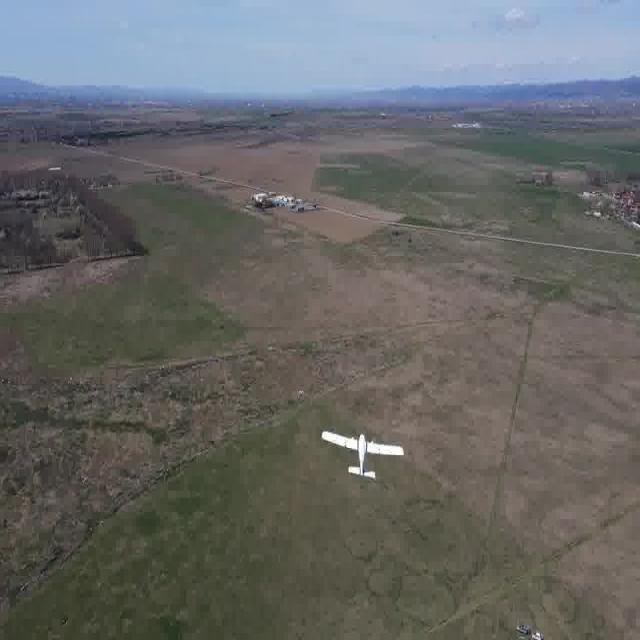iha: (352, 452, 376, 456)
